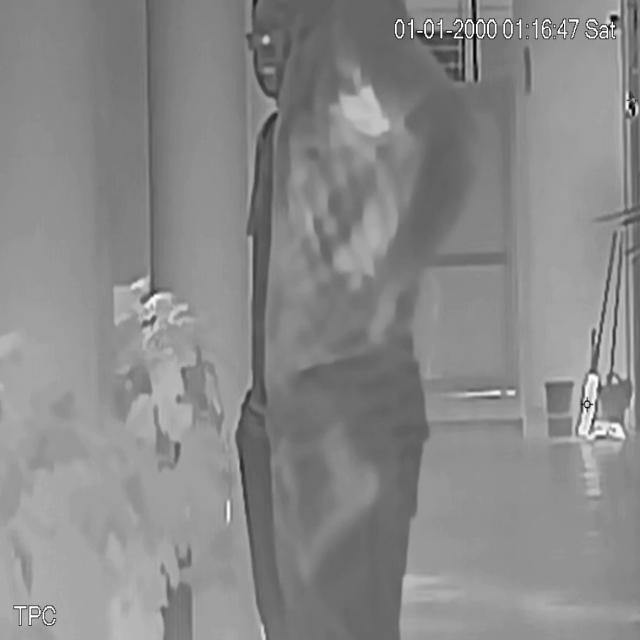Weapon: (283, 411, 384, 595)
